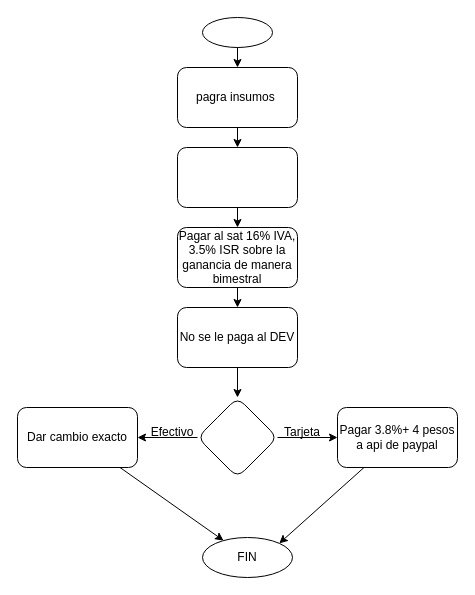
Image size: 475x595. Some labels were removed from this diagram. The shapes that lost their labels are listed below. From the top down, each one's centre as x and y in pixels, then its label:
point (237, 32): Inicio
point (237, 177): 1000 mensuales contador
point (237, 437): Efectivo o tarjeta
